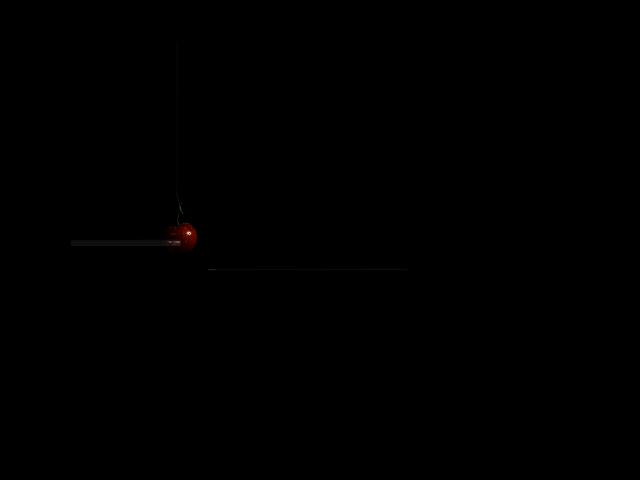tomato: (162, 223, 196, 253)
